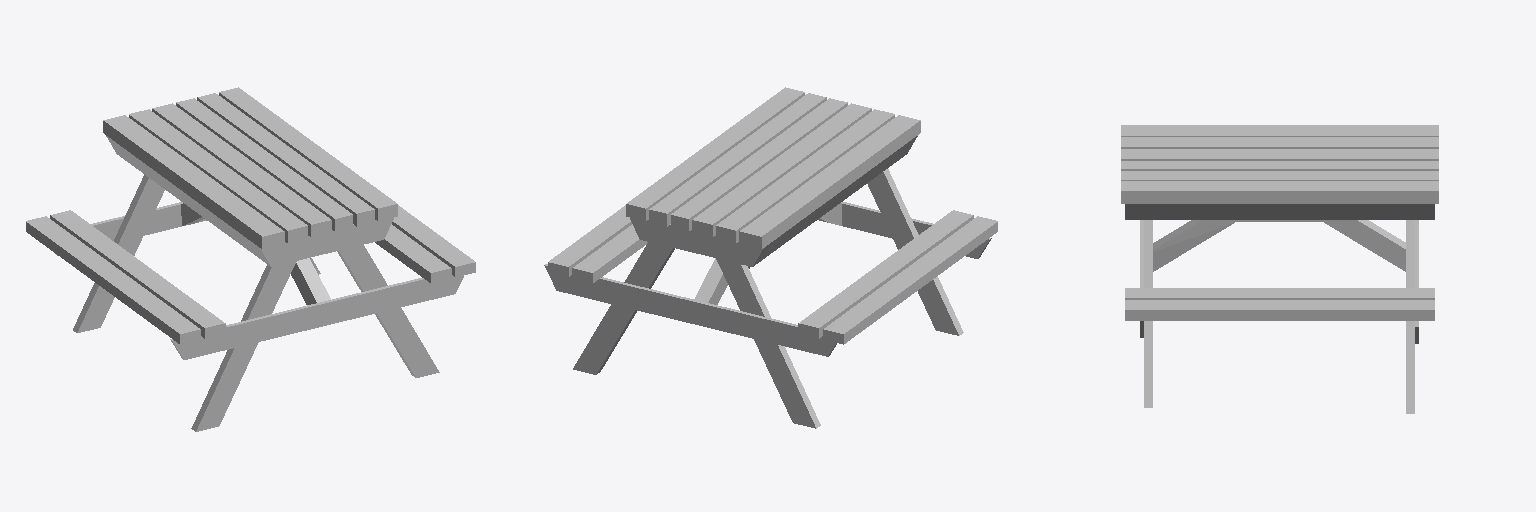
The model's file is bench3.obj.
3 renders of one model, left to right at view 1: azimuth 30°, elevation 25°; view 2: azimuth 150°, elevation 25°; view 3: azimuth 270°, elevation 25°, orthographic.
Visible parts, largest first — view 1: Plane03; view 2: Plane03; view 3: Plane03.
Boxes of the visible parts, x1,y1,x2,y2 form: Plane03: [26, 87, 475, 431]; Plane03: [544, 87, 997, 428]; Plane03: [1121, 125, 1438, 413].
Size of the model in its own units: 3.22 by 1.9 by 2.88.